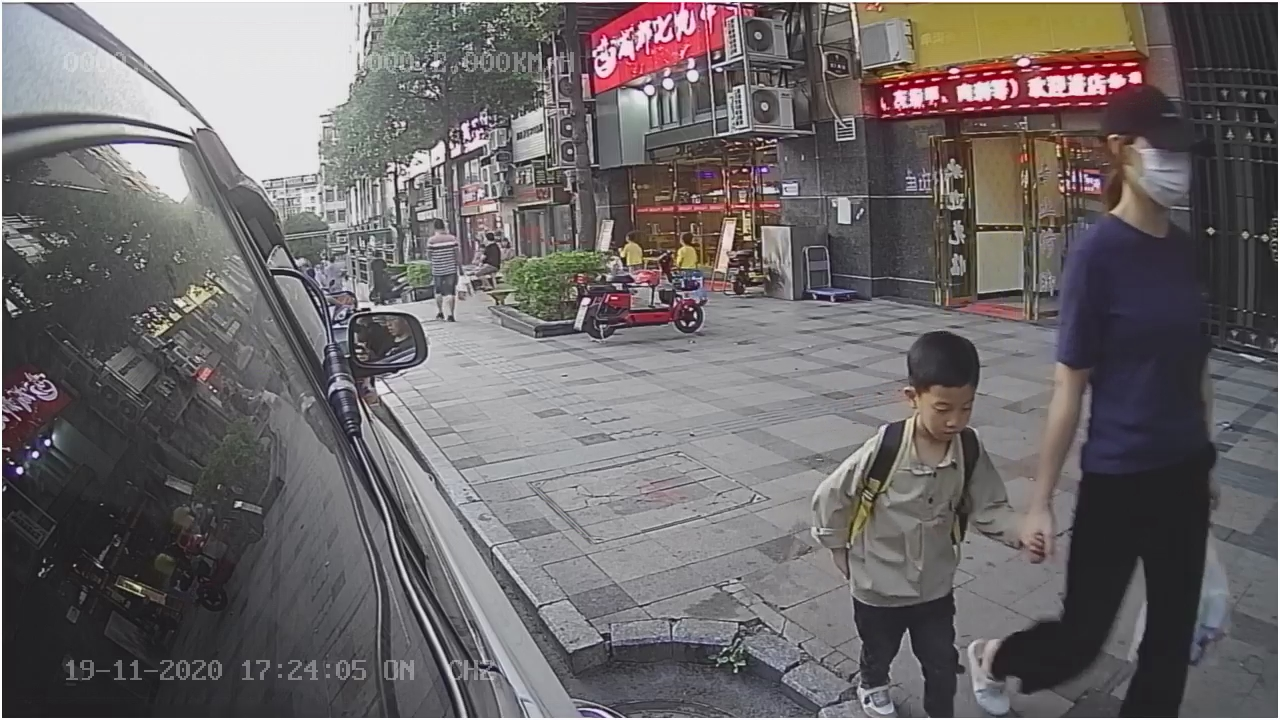person: (1002, 78, 1236, 718), (807, 325, 1034, 713)
